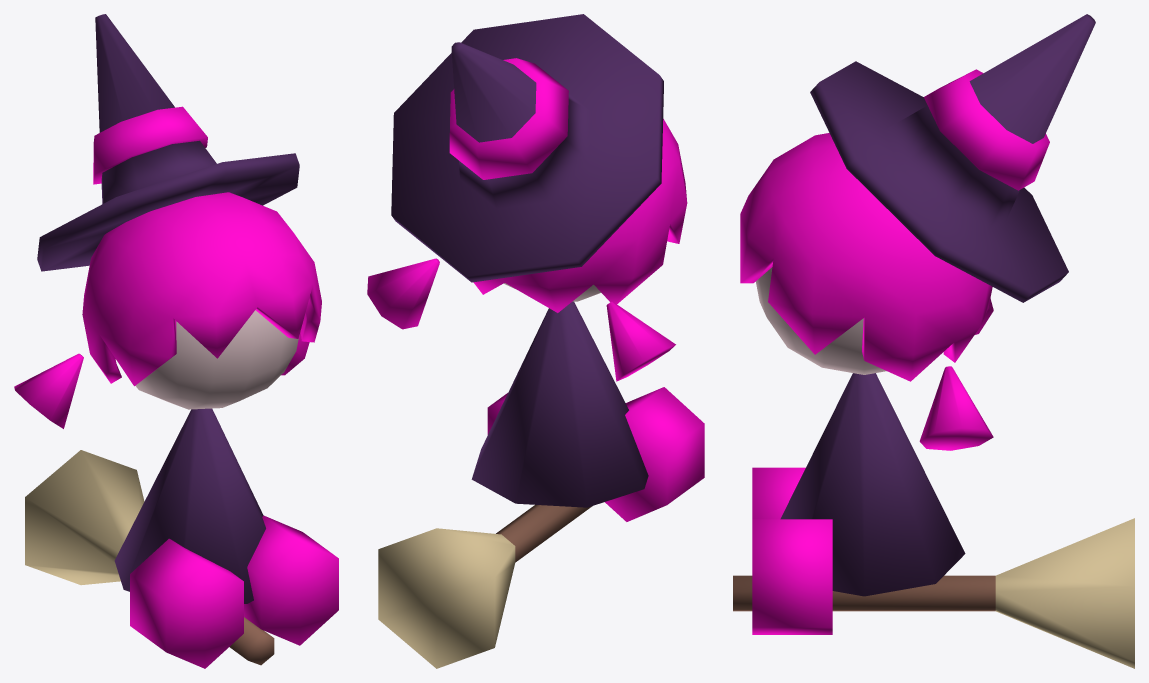
File: display_player.glb
The picture shows the model from 3 angles, left to right: view 1: azimuth 30°, elevation 25°; view 2: azimuth 150°, elevation 25°; view 3: azimuth 270°, elevation 25°; orthographic projection. The views are drawn at different scales.
Visible parts, largest first — view 1: Hair, Hat, Shoe, Body, Broom, Head, Strand; view 2: Hat, Body, Broom, Hair, Shoe, Strand; view 3: Hat, Hair, Body, Broom, Shoe, Strand, Head.
Part boxes in pixels (x1,y1,x2,y2): Hair: (82, 192, 321, 386); Hat: (37, 14, 299, 271); Shoe: (130, 515, 338, 668); Body: (114, 408, 265, 603); Broom: (25, 450, 274, 665); Head: (116, 310, 298, 409); Strand: (14, 331, 309, 428); Hat: (391, 14, 663, 282); Body: (471, 301, 648, 507); Broom: (378, 505, 592, 668); Hair: (473, 119, 687, 312); Shoe: (487, 387, 704, 521); Strand: (367, 258, 675, 381); Hat: (810, 14, 1095, 302); Hair: (740, 133, 992, 381); Body: (780, 373, 965, 596); Broom: (733, 518, 1134, 668); Shoe: (752, 467, 832, 634); Strand: (919, 298, 993, 450); Head: (755, 267, 886, 374).
Size of the model in its own units: 0.5073 by 0.9937 by 0.5531.
1 material, 1 textured.
